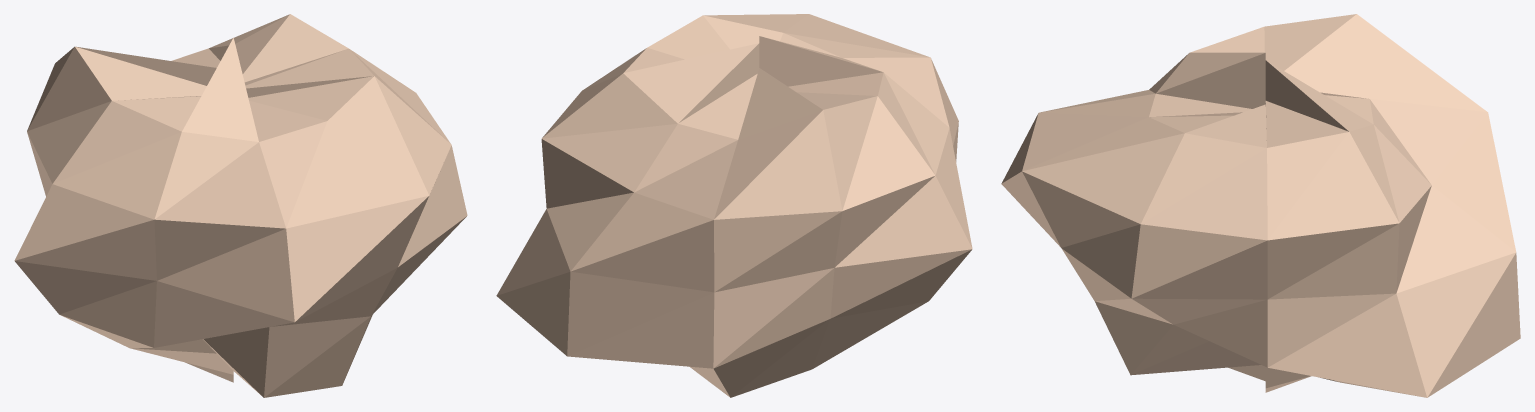
The model's file is rock_084.obj.
3 renders of one model, left to right at view 1: azimuth 30°, elevation 25°; view 2: azimuth 150°, elevation 25°; view 3: azimuth 270°, elevation 25°, orthographic. The views are drawn at different scales.
Bounding box in the file's own units: 0.6341 × 0.5079 × 0.703.
